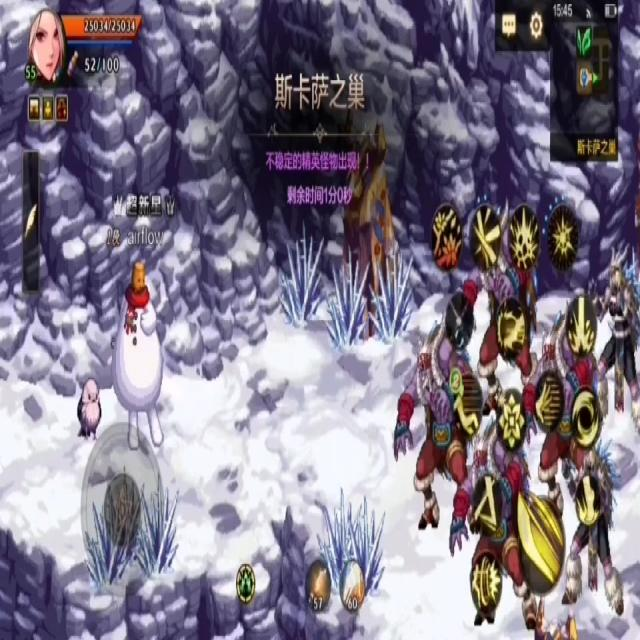player: (113, 258, 167, 454)
